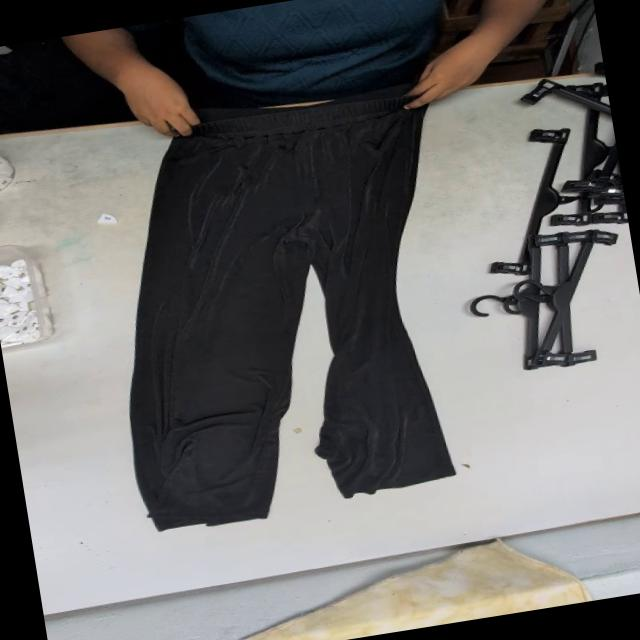new-garment: (130, 97, 454, 530)
